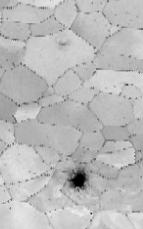good_void: (61, 166, 90, 193), (52, 36, 73, 53)
